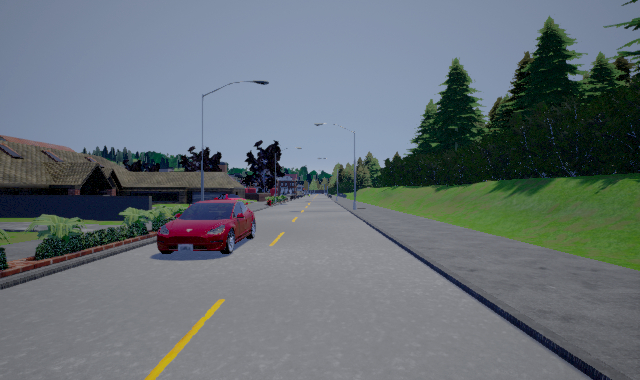vehicle: (157, 199, 256, 254)
